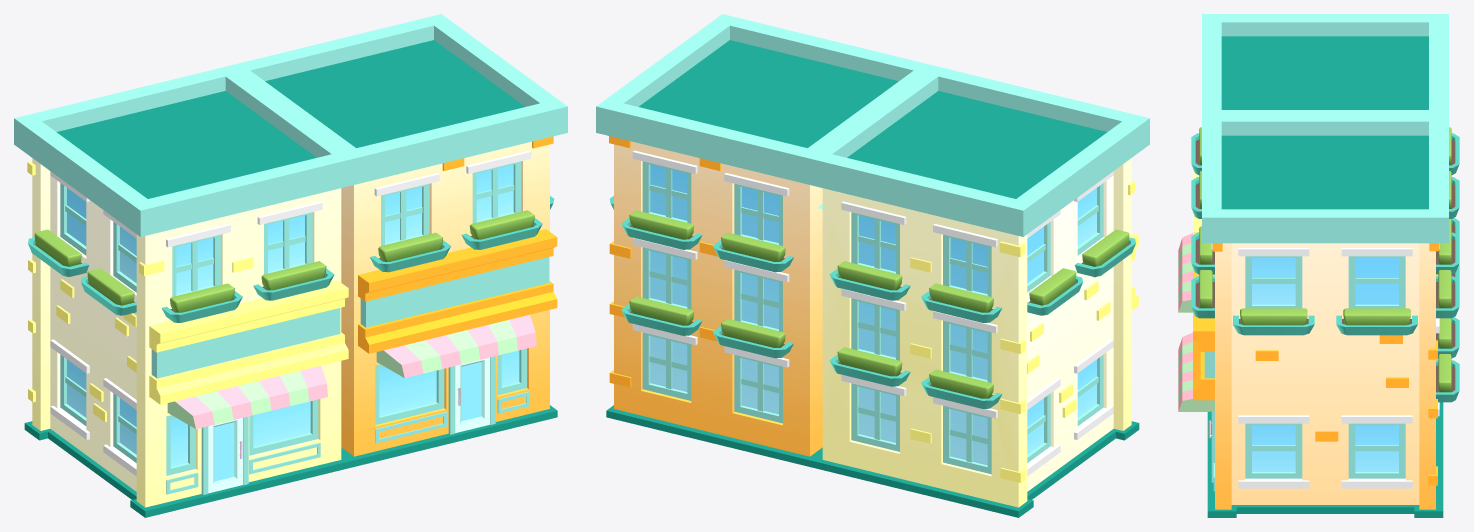
File: city2-building-living-27.glb
3 views of the same model, side by side, from view 1: azimuth 30°, elevation 25°; view 2: azimuth 150°, elevation 25°; view 3: azimuth 270°, elevation 25° (orthographic). The views are drawn at different scales.
Parts seen in each view (by area): view 1: Building_Living_27; view 2: Building_Living_27; view 3: Building_Living_27.
Part boxes in pixels (left/top/right/bottom): Building_Living_27: left=14, top=14, right=567, bottom=517; Building_Living_27: left=596, top=14, right=1149, bottom=517; Building_Living_27: left=1178, top=14, right=1459, bottom=517.
Size of the model in its own units: 13.81 by 9.32 by 7.81.
1 material, 1 textured.
